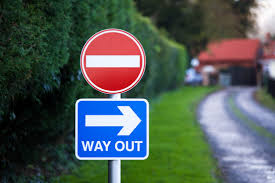No_entry: (79, 29, 148, 94)
